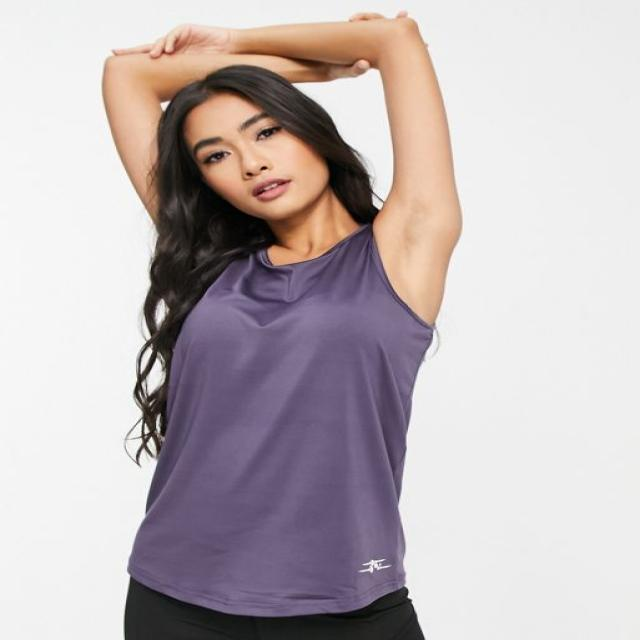tshirt: (123, 222, 438, 617)
